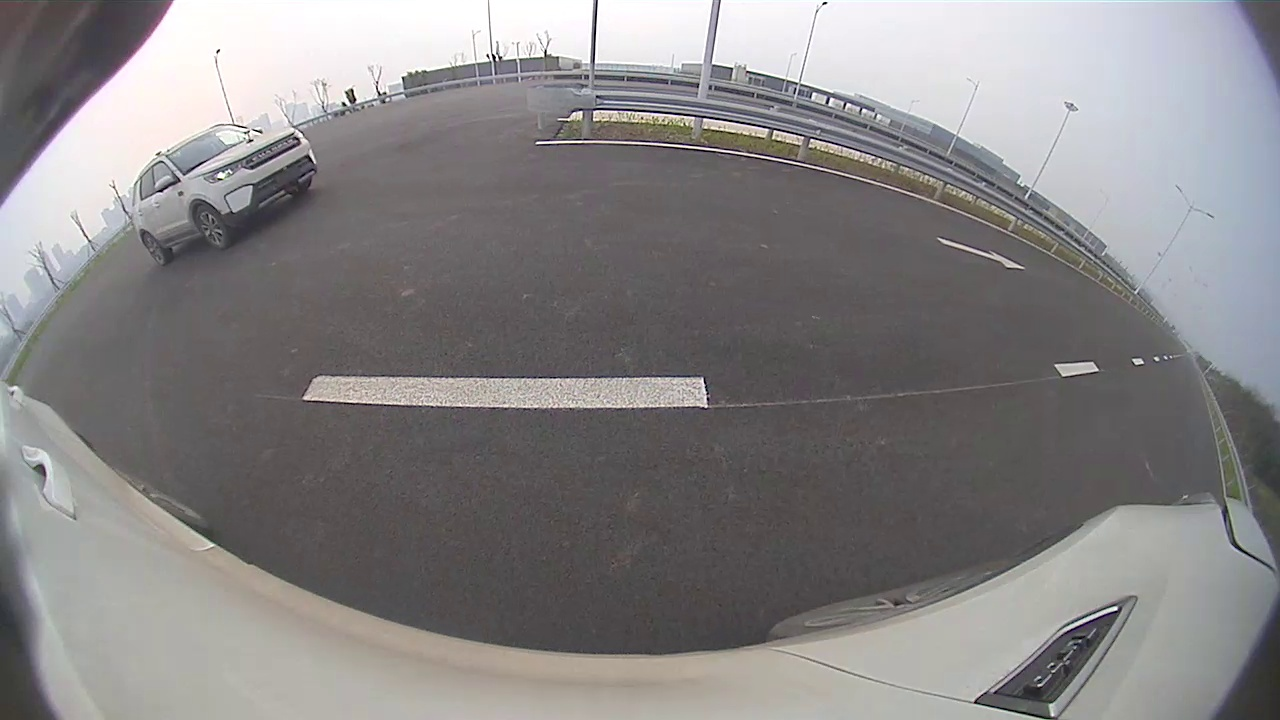car: (131, 124, 318, 267)
front: (193, 204, 230, 249)
rear: (141, 234, 166, 267)
